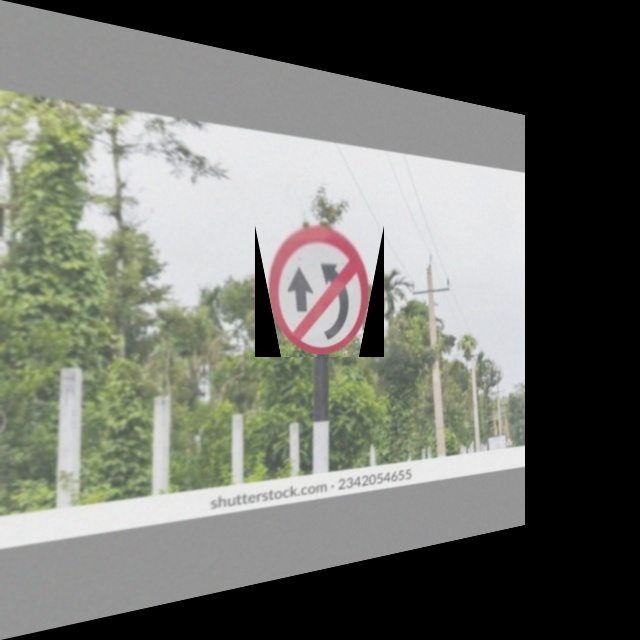Overtaking_Prohibited: (255, 225, 384, 357)
